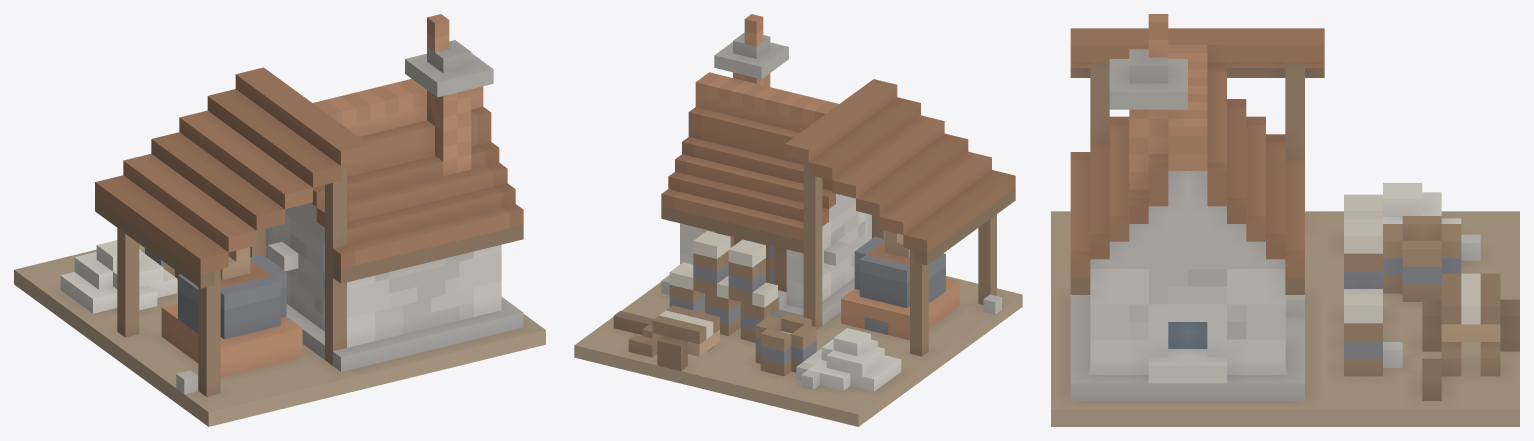
The model's file is rendering_house.glb.
3 renders of one model, left to right at view 1: azimuth 30°, elevation 25°; view 2: azimuth 150°, elevation 25°; view 3: azimuth 270°, elevation 25°, orthographic. The views are drawn at different scales.
Parts seen in each view (by area): view 1: rendering_house; view 2: rendering_house; view 3: rendering_house.
Part boxes in pixels (x1=…): rendering_house: x1=14, y1=14, x2=545, y2=426; rendering_house: x1=574, y1=14, x2=1022, y2=426; rendering_house: x1=1051, y1=14, x2=1519, y2=426.
Size of the model in its own units: 3 by 2.62 by 3.
